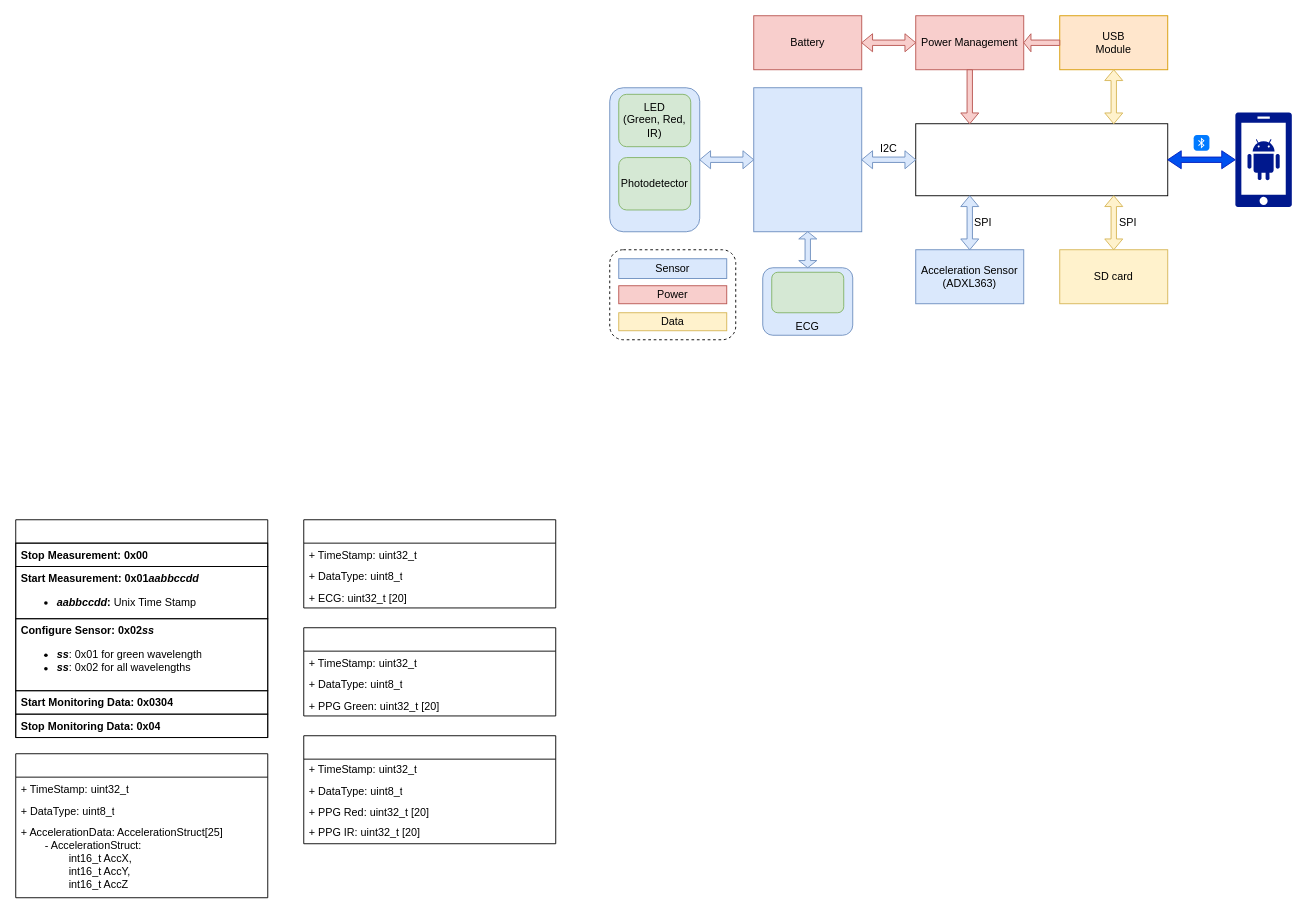
The diagram is 1308 pixels wide and 916 high, and some of its shapes have lost their labels. The box of each missing label's shape, as (x1, y1, x2, y2) in pixels:
Acceleration Data Struct: (15, 753, 268, 898)
Analog Front End (ADPD4101): (753, 87, 862, 232)
Command: (15, 519, 268, 738)
ECG Data Struct: (303, 519, 556, 608)
ECG Electrodes: (771, 271, 844, 313)
Microcontroller with built-in BLE Radio (nRF52840): (915, 123, 1168, 196)
PPG: (609, 87, 700, 232)
PPG Green Data Struct: (303, 627, 556, 716)
PPG Red/IR Data Struct: (303, 735, 556, 844)
